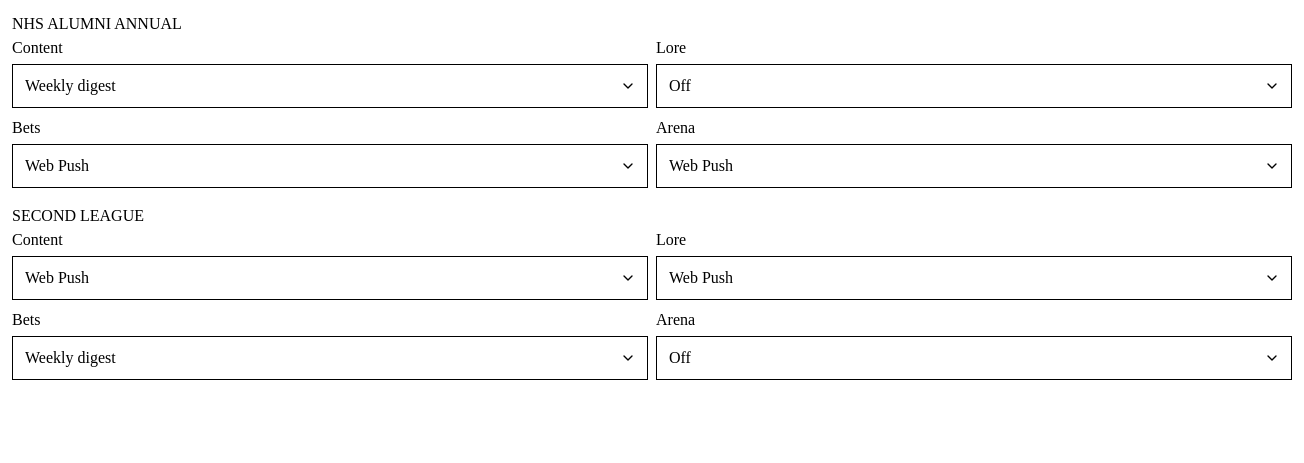
Test: changing a channel PATCHes the existing push preferences API
Select "Weekly digest" in the 1st dropdown labelled "Lore" at (974, 86), box [656,64,1292,108]
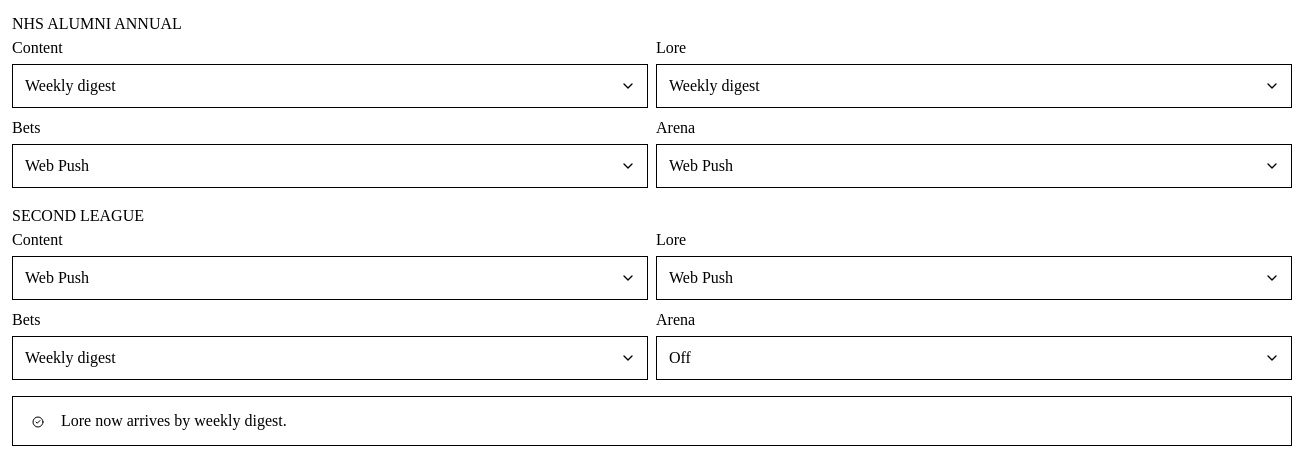
Result: the text "Lore now arrives by weekly digest." is shown at [61,412,287,429]
